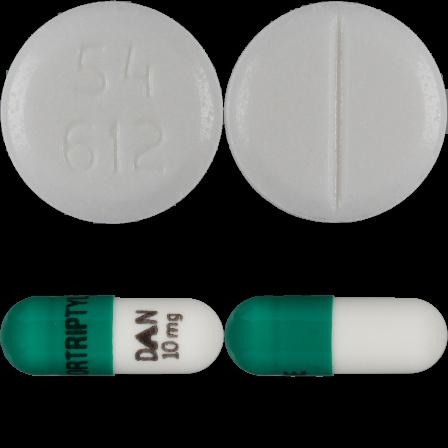24236-405: (0, 0, 224, 224)
